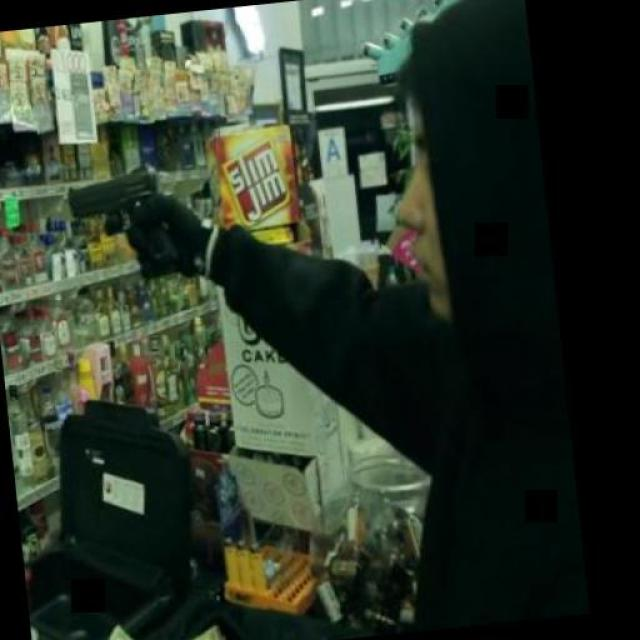gun: (59, 156, 196, 286)
